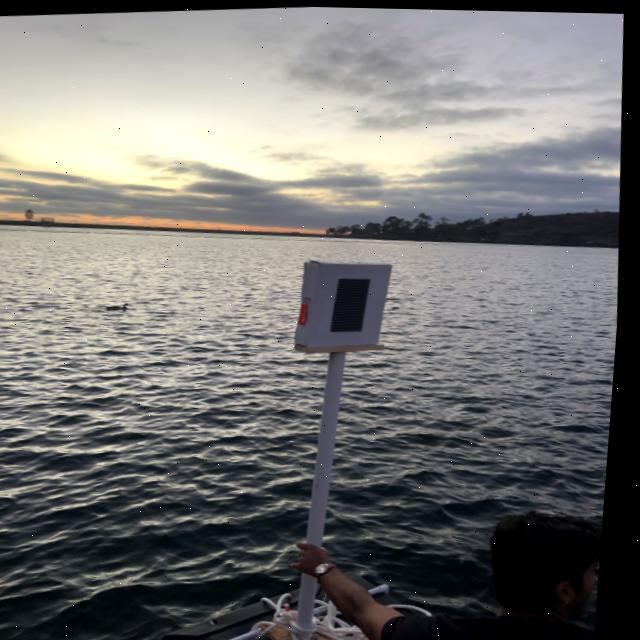led: (316, 263, 395, 354)
